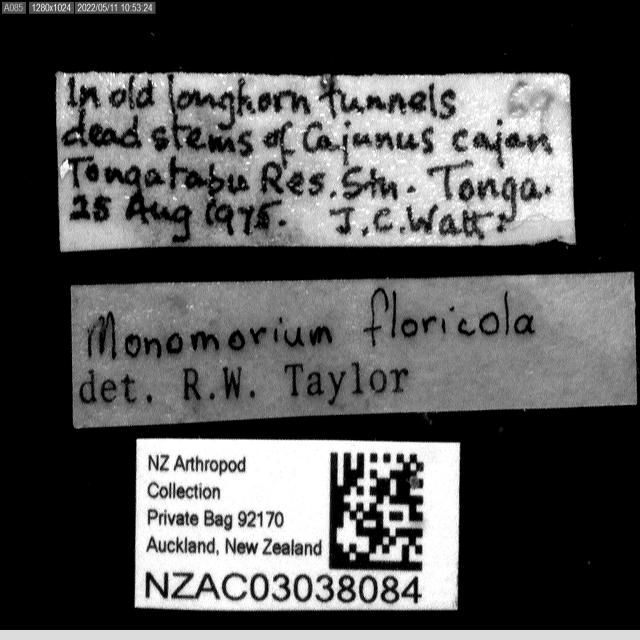hand_label: (56, 72, 575, 252)
mixed_label: (71, 272, 636, 428)
typed_label: (135, 439, 460, 609)
